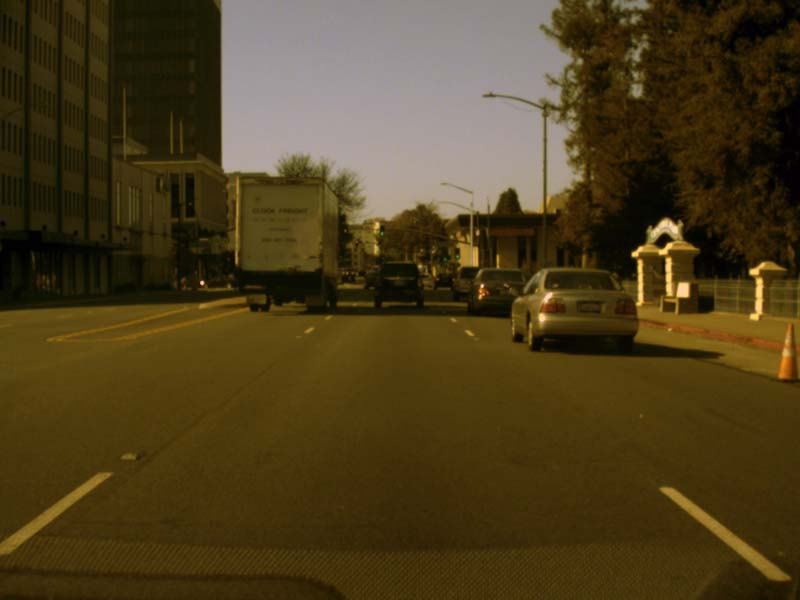Green: (440, 248, 448, 262), (379, 225, 385, 236), (454, 248, 459, 259)
Red: (354, 239, 359, 246)
Yellow: (343, 224, 347, 235)
